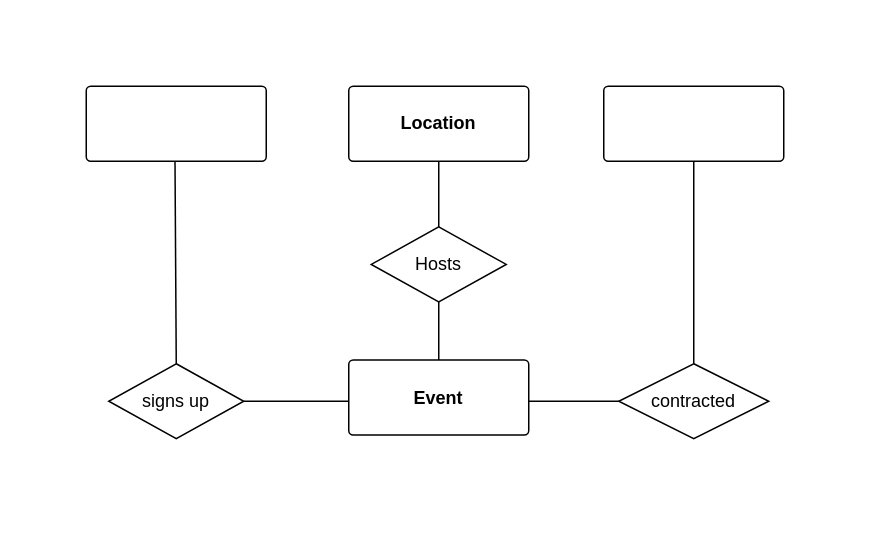
Some shapes in this 893 by 533 pixel diagram are drawn without their labels. Each missing label, with the centre of its shape:
"Participant" goes at point (175, 123).
"Sponsor" goes at point (693, 123).
